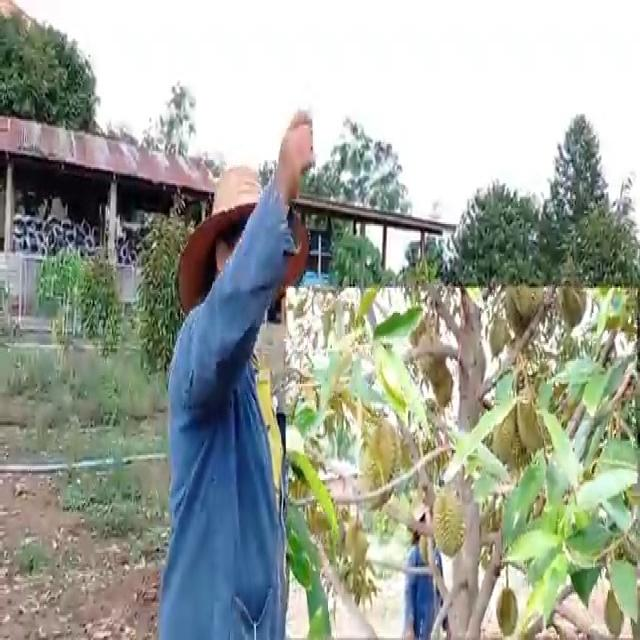durian: (357, 416, 402, 523), (428, 476, 472, 560), (490, 400, 518, 472), (515, 391, 544, 458), (493, 580, 523, 636), (487, 308, 510, 364), (602, 584, 625, 638)
